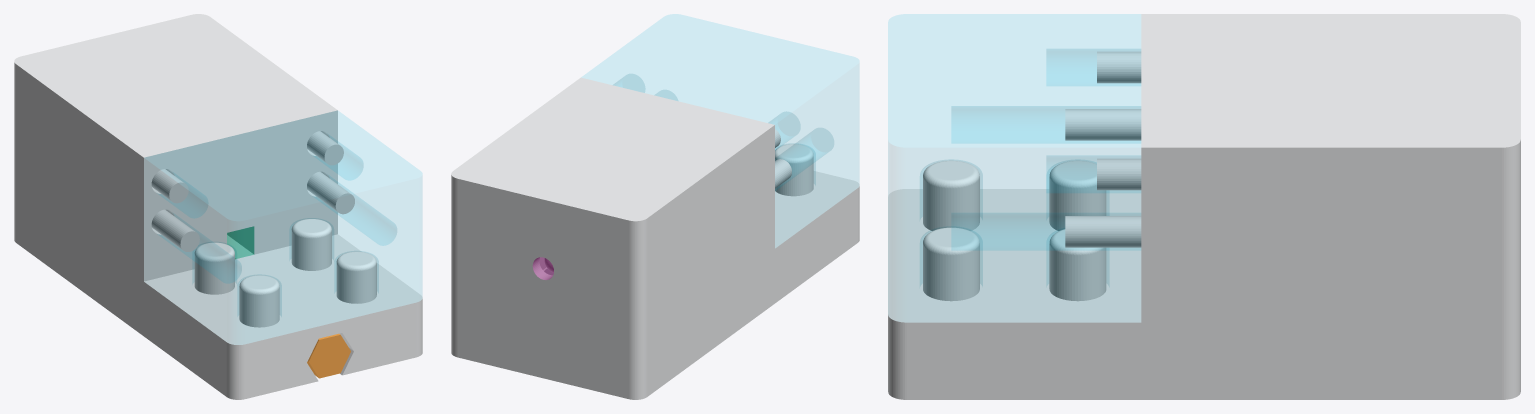
The model's file is perseus.glb.
3 views of the same model, side by side, from view 1: azimuth 30°, elevation 25°; view 2: azimuth 150°, elevation 25°; view 3: azimuth 270°, elevation 25° (orthographic). The views are drawn at different scales.
Parts seen in each view (by area): view 1: box, cover, tool, pin LR, pin LL, pin UR, pin UL, level 2; view 2: box, cover, level 3, pin LL; view 3: box, cover, pin LL, pin LR, pin UL, pin UR.
Boxes of the visible parts, x1=… form: box: x1=14, y1=14, x2=422, y2=399; cover: x1=144, y1=111, x2=421, y2=344; tool: x1=235, y1=258, x2=350, y2=378; pin LR: x1=307, y1=171, x2=354, y2=214; pin LL: x1=151, y1=209, x2=199, y2=251; pin UR: x1=307, y1=131, x2=343, y2=165; pin UL: x1=151, y1=169, x2=188, y2=203; level 2: x1=227, y1=226, x2=253, y2=258; box: x1=451, y1=77, x2=859, y2=399; cover: x1=582, y1=14, x2=858, y2=247; level 3: x1=532, y1=257, x2=553, y2=279; pin LL: x1=775, y1=159, x2=791, y2=188; box: x1=888, y1=14, x2=1520, y2=399; cover: x1=888, y1=14, x2=1140, y2=321; pin LL: x1=1065, y1=109, x2=1141, y2=140; pin LR: x1=1065, y1=216, x2=1141, y2=247; pin UL: x1=1097, y1=51, x2=1141, y2=83; pin UR: x1=1097, y1=158, x2=1141, y2=190.
Bounding box in the file's own units: 0.05 × 0.044 × 0.1.
